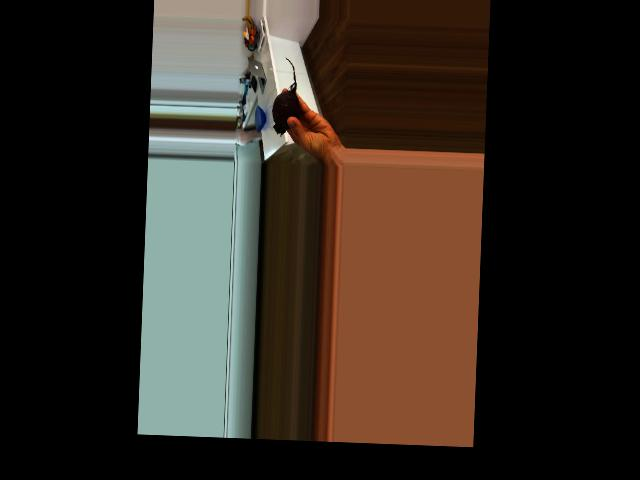beet: (271, 57, 302, 136)
